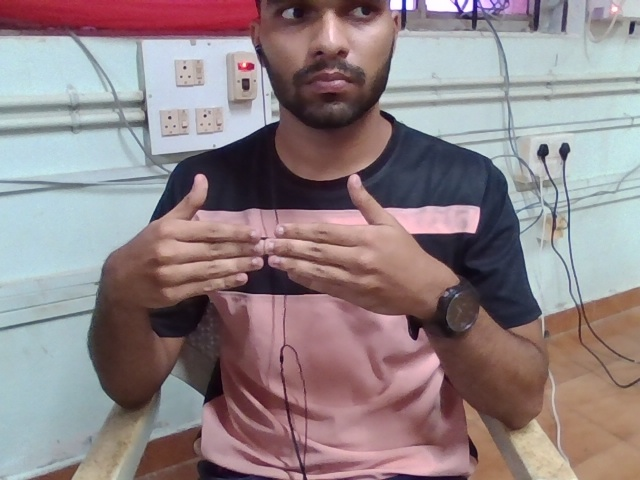more: (112, 155, 430, 340)
